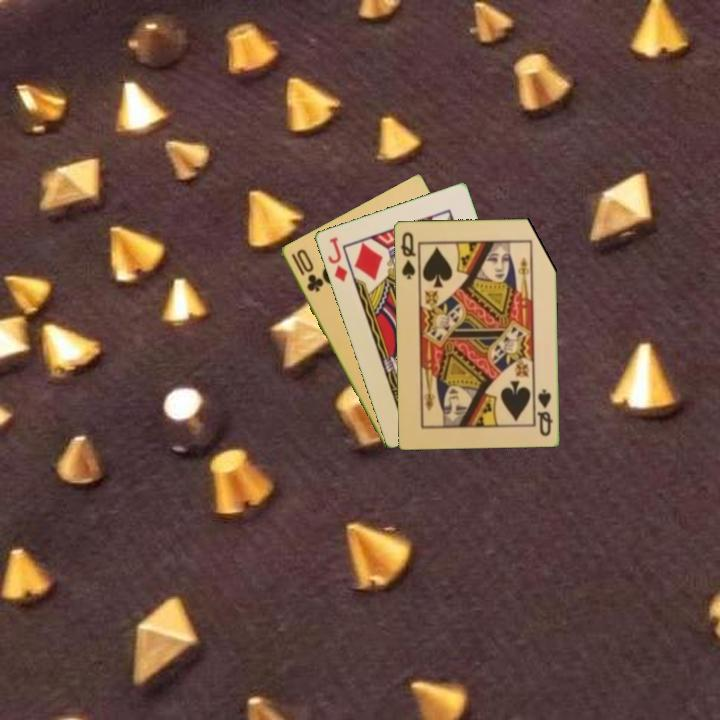10c: (287, 245, 326, 295)
Jd: (324, 233, 350, 285)
Qs: (397, 228, 418, 282), (534, 385, 555, 439)
